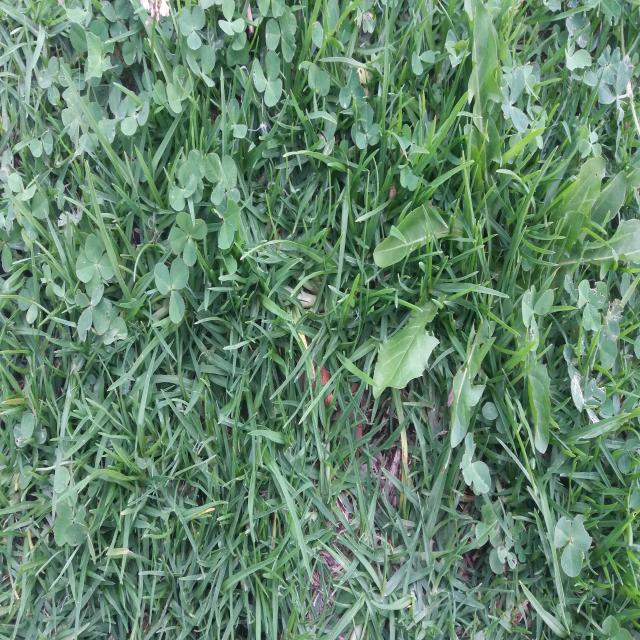Four Leaf Clover: (76, 233, 115, 286), (75, 289, 110, 342)
